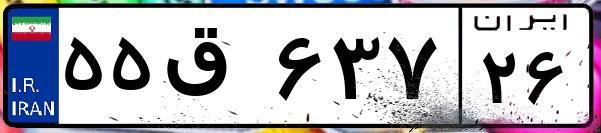2: (475, 38, 525, 113)
3: (330, 28, 385, 110)
5: (57, 26, 110, 100), (110, 28, 158, 98)
6: (270, 28, 330, 110), (525, 38, 570, 115)
7: (385, 28, 445, 110)
ق: (158, 20, 270, 120)
